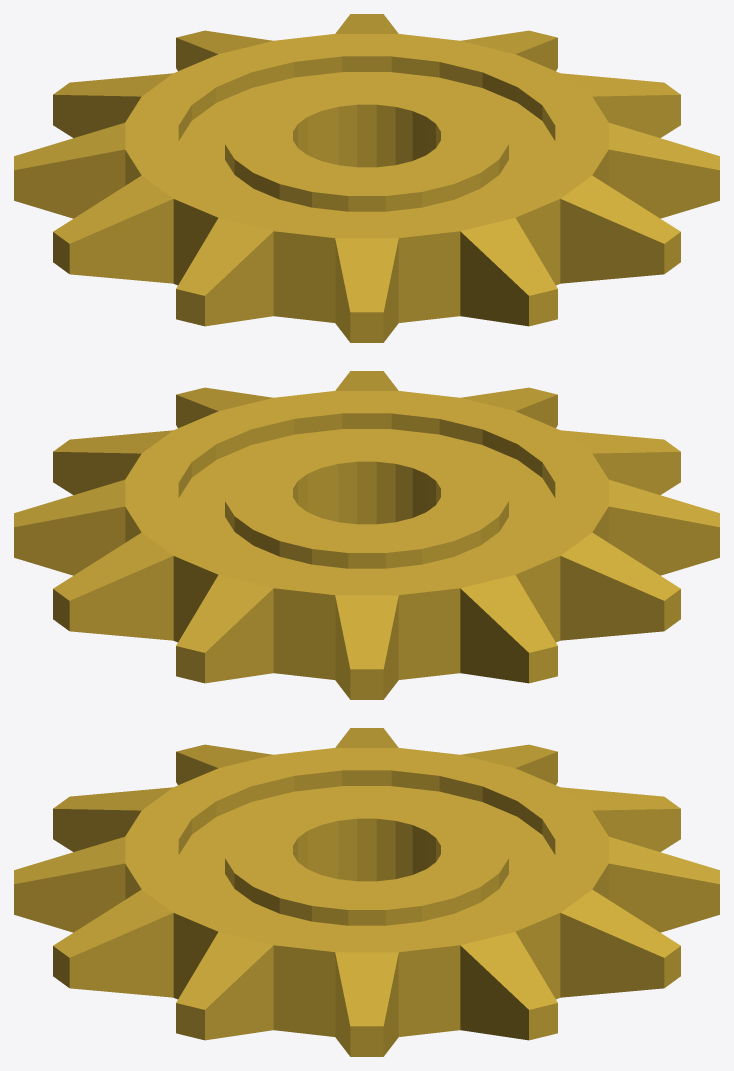
The model's file is Cogwheel_Gold_001.glb.
The picture shows the model from 3 angles, top to bottom: view 1: azimuth 30°, elevation 25°; view 2: azimuth 150°, elevation 25°; view 3: azimuth 270°, elevation 25°; orthographic projection.
Visible parts, largest first — view 1: Cog_Gold_001; view 2: Cog_Gold_001; view 3: Cog_Gold_001.
Boxes of the visible parts, x1=… form: Cog_Gold_001: x1=14, y1=14, x2=719, y2=342; Cog_Gold_001: x1=14, y1=371, x2=719, y2=699; Cog_Gold_001: x1=14, y1=728, x2=719, y2=1056.
Bounding box in the file's own units: 2.89 × 0.3842 × 2.89.
